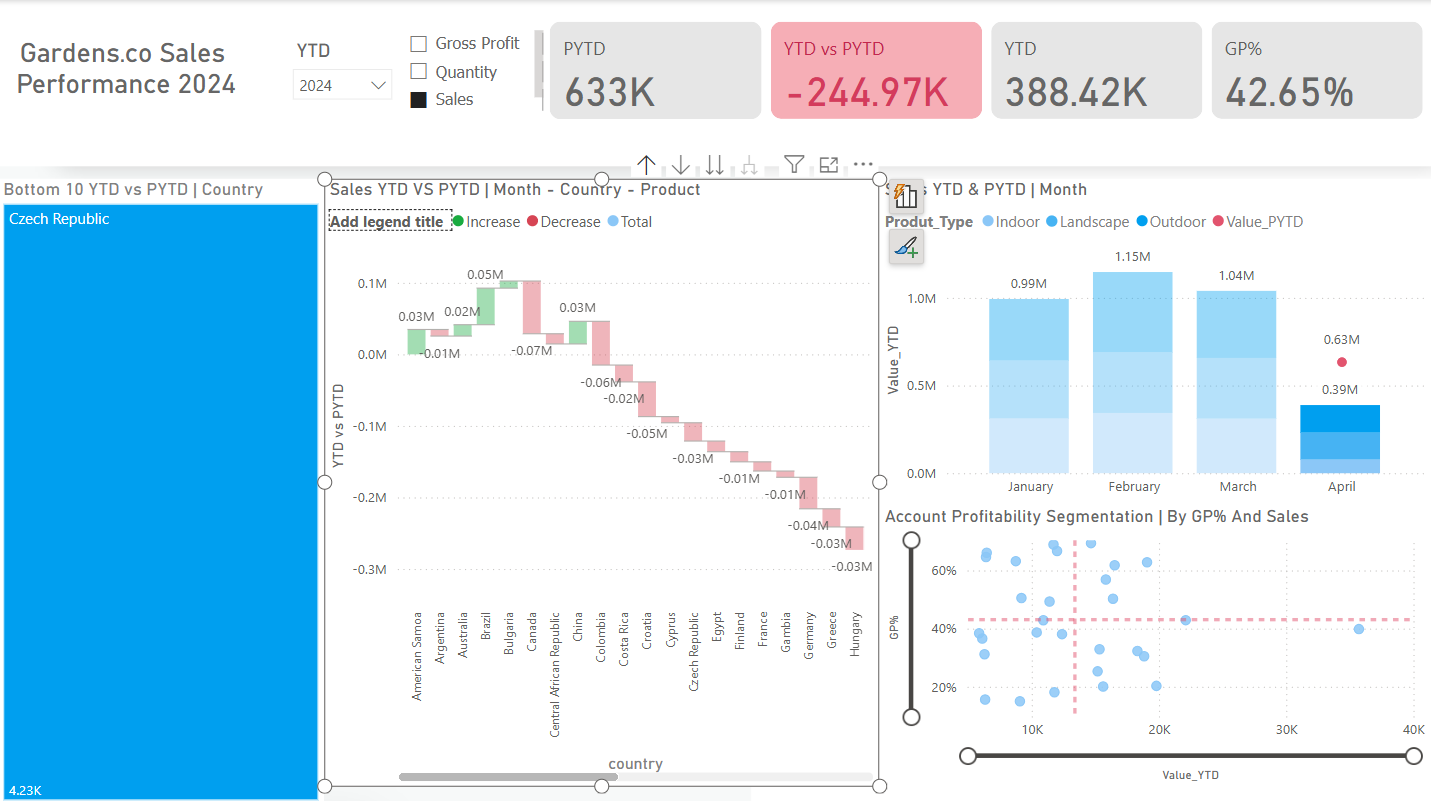

What the dashboard file says about the page in this screenshot:
{"tool":"powerbi","page":{"name":"Performance_report","canvas":[1280,720],"ordinal":0},"visuals":[{"type":"cardVisual","fields":{"Data":["formulas.sl_PYTD","formulas.YTD vs PYTD","formulas.sl_YTD","formulas.GP%"]},"box":[488,14.5,792.8,97.1],"z":0},{"type":"slicer","fields":{"Values":["slicer_values.Values"]},"box":[358.4,24.6,129.5,78.2],"z":1000},{"type":"slicer","fields":{"Values":["date_data.Date.Variation.Date Hierarchy.Year"]},"box":[254.6,31.3,103.8,64.8],"z":2000},{"type":"treemap","title":"Bottom 10 YTD vs PYTD | Country","fields":{"Values":["formulas.YTD vs PYTD"],"Group":["Accounts_data.country"]},"box":[0,159.7,291.4,560.5],"z":3000},{"type":"waterfallChart","fields":{"Y":["formulas.YTD vs PYTD"],"Category":["date_data.Date.Variation.Date Hierarchy.Month","Accounts_data.country","product_data.Produt_Type","product_data.Product_Name"]},"box":[291.8,159.4,495.3,543.1],"z":4000},{"type":"lineStackedColumnComboChart","fields":{"Y":["formulas.sl_YTD"],"Y2":["formulas.sl_PYTD"],"Category":["date_data.Date.Variation.Date Hierarchy.Month","date_data.Date.Variation.Date Hierarchy.Quarter"],"Series":["product_data.Produt_Type"]},"box":[787.1,159.4,492.9,293],"z":5000},{"type":"scatterChart","fields":{"Y":["formulas.GP%"],"X":["formulas.sl_YTD"],"Category":["Accounts_data.Account"]},"box":[787.4,452.3,492.3,250.6],"z":5001},{"type":"card","fields":{"Values":["formulas.Report_title"]},"box":[0,7.8,228.9,103.8],"z":5002}]}

Visuals, with their boxes in screenshot pixels (x1, y1, x2, y2), scaled from the page's 1280x720 canvas onto the 1431x801 screenshot:
cardVisual - formulas.sl_PYTD x formulas.YTD vs PYTD: (546, 16, 1430, 124)
slicer - slicer_values.Values: (401, 27, 545, 114)
slicer - date_data.Date.Variation.Date Hierarchy.Year: (285, 35, 401, 107)
"Bottom 10 YTD vs PYTD | Country" treemap: (0, 178, 326, 800)
waterfallChart - formulas.YTD vs PYTD x date_data.Date.Variation.Date Hierarchy.Month: (326, 177, 880, 782)
lineStackedColumnComboChart - formulas.sl_YTD x formulas.sl_PYTD: (880, 177, 1430, 503)
scatterChart - formulas.GP% x formulas.sl_YTD: (880, 503, 1430, 782)
card - formulas.Report_title: (0, 9, 256, 124)
